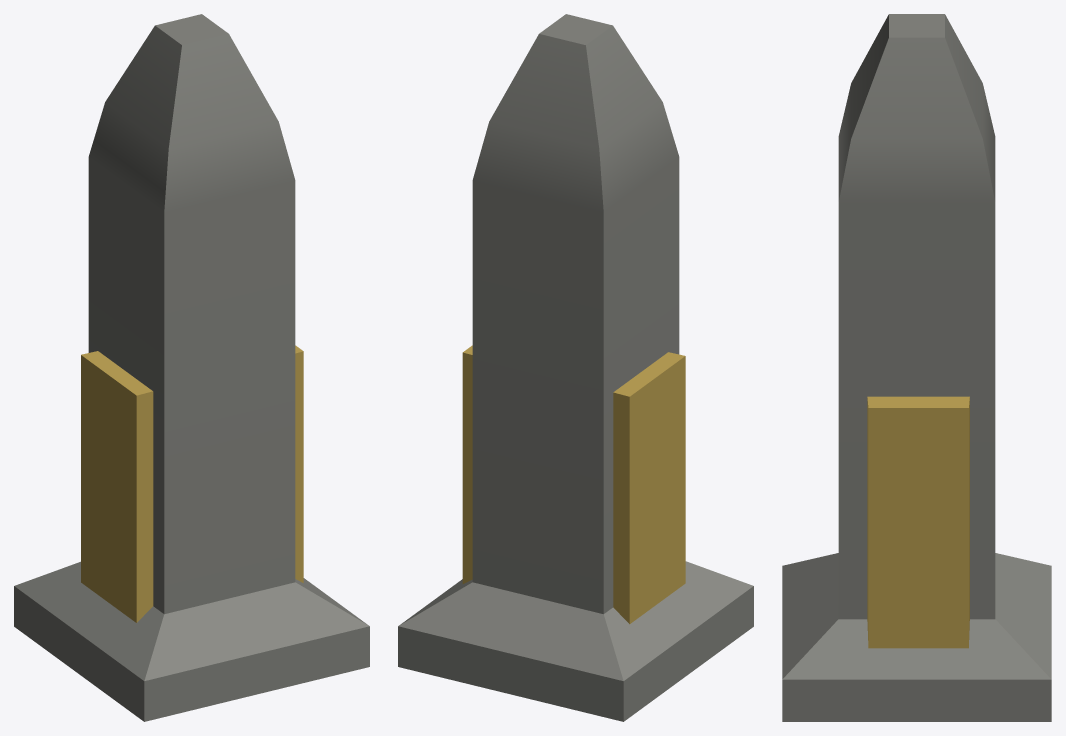
The model's file is YardMonolithPlaque.fbx.
The picture shows the model from 3 angles, left to right: view 1: azimuth 30°, elevation 25°; view 2: azimuth 150°, elevation 25°; view 3: azimuth 270°, elevation 25°; orthographic projection. The views are drawn at different scales.
Visible parts, largest first — view 1: pCube272; view 2: pCube272; view 3: pCube272.
Boxes of the visible parts, left/top/right/bottom form: pCube272: left=14, top=14, right=369, bottom=721; pCube272: left=398, top=14, right=753, bottom=721; pCube272: left=782, top=14, right=1051, bottom=721.
Size of the model in its own units: 1 by 2.62 by 1.
